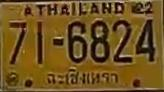1: (36, 20, 42, 63)
2: (112, 18, 131, 62)
4: (135, 18, 154, 61)
6: (67, 20, 86, 62)
7: (9, 21, 26, 64)
8: (90, 20, 109, 62)
CCO: (44, 67, 121, 87)
